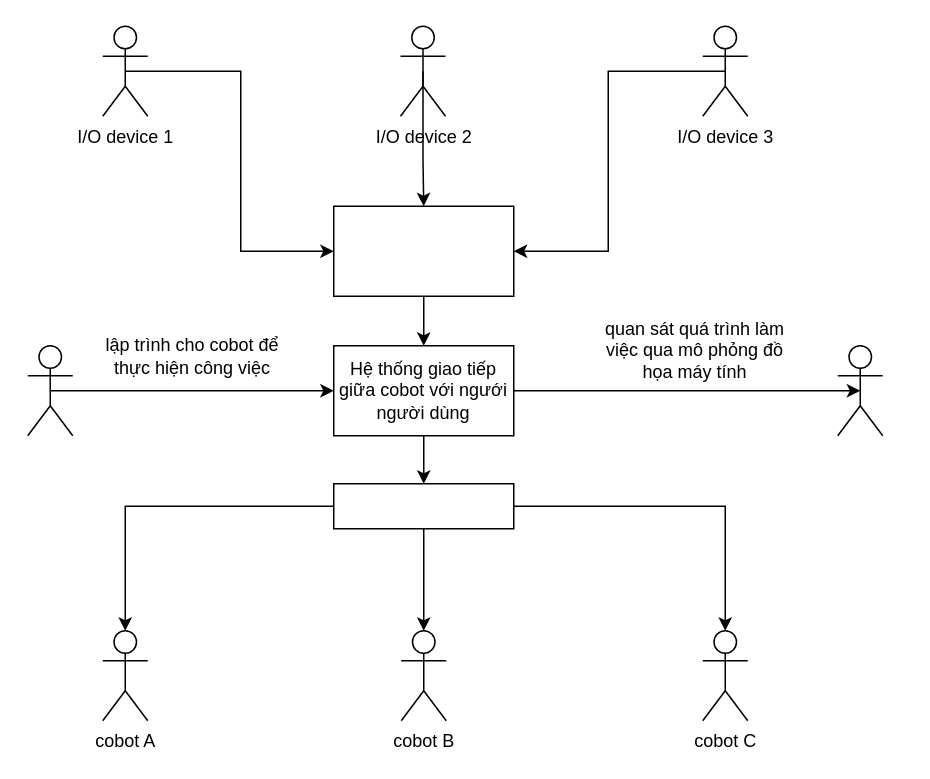
Some shapes in this 930 by 779 pixel diagram are drawn without their labels. The shapes that lost their labels are listed below. From the top down, each one's box as (x1, y1, x2, y2) in pixels, then its label:
(332, 205, 514, 296): hệ thống thu thập thông tin từ thiết bị ngoại vi
(26, 344, 73, 436): user 1
(836, 344, 883, 436): super visor
(332, 482, 514, 529): hệ thống điều khiển
